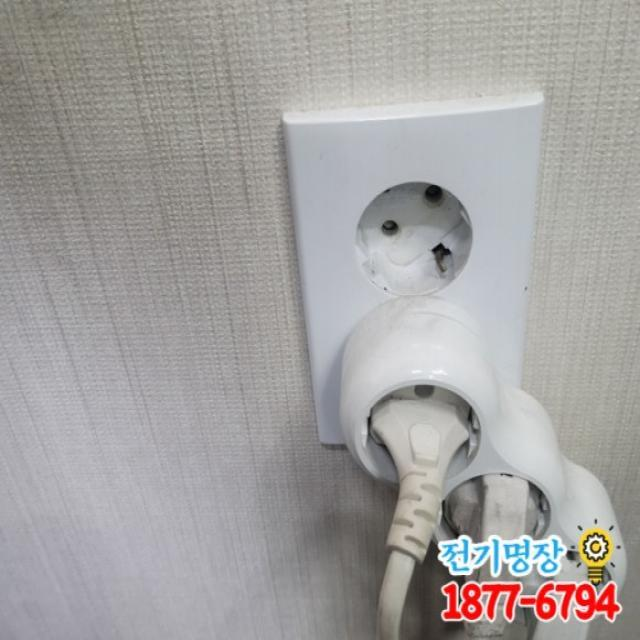typeb: (259, 68, 640, 640)
